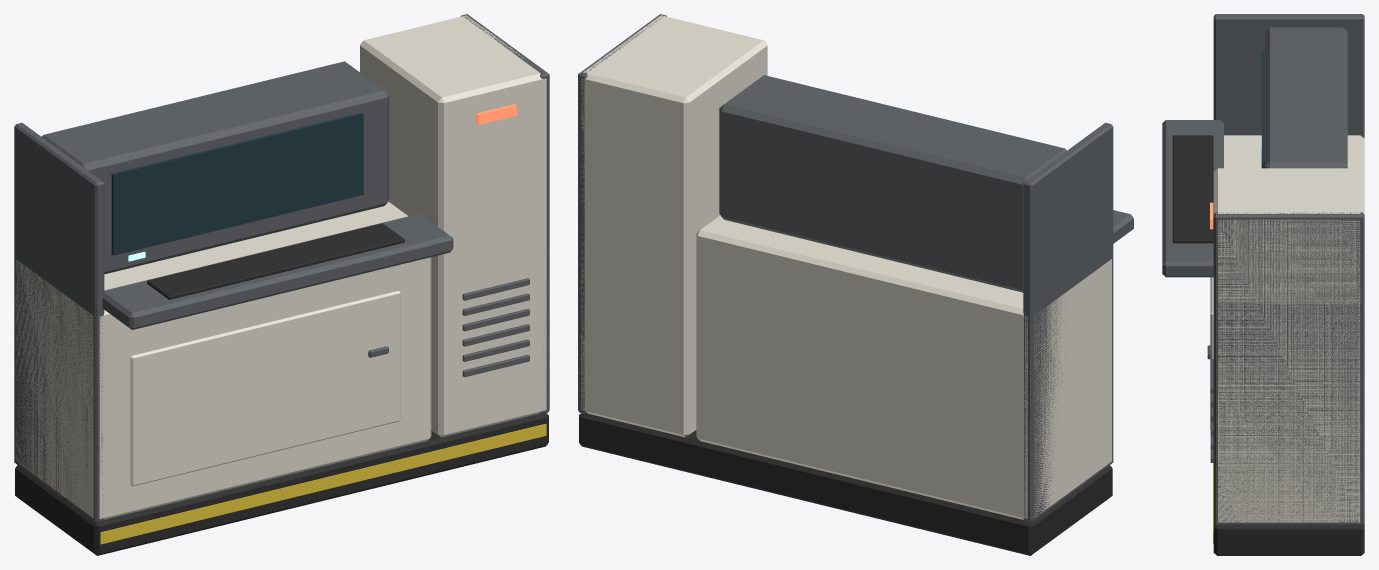
File: console_1400.glb
The picture shows the model from 3 angles, left to right: view 1: azimuth 30°, elevation 25°; view 2: azimuth 150°, elevation 25°; view 3: azimuth 270°, elevation 25°; orthographic projection. The views are drawn at different scales.
Visible parts, largest first — view 1: console_1400; view 2: console_1400; view 3: console_1400.
Boxes of the visible parts, <box> form: console_1400: <box>14,14,549,555</box>; console_1400: <box>578,14,1133,555</box>; console_1400: <box>1162,14,1364,555</box>.
Bounding box in the file's own units: 1.4 × 1.1 × 0.59.
